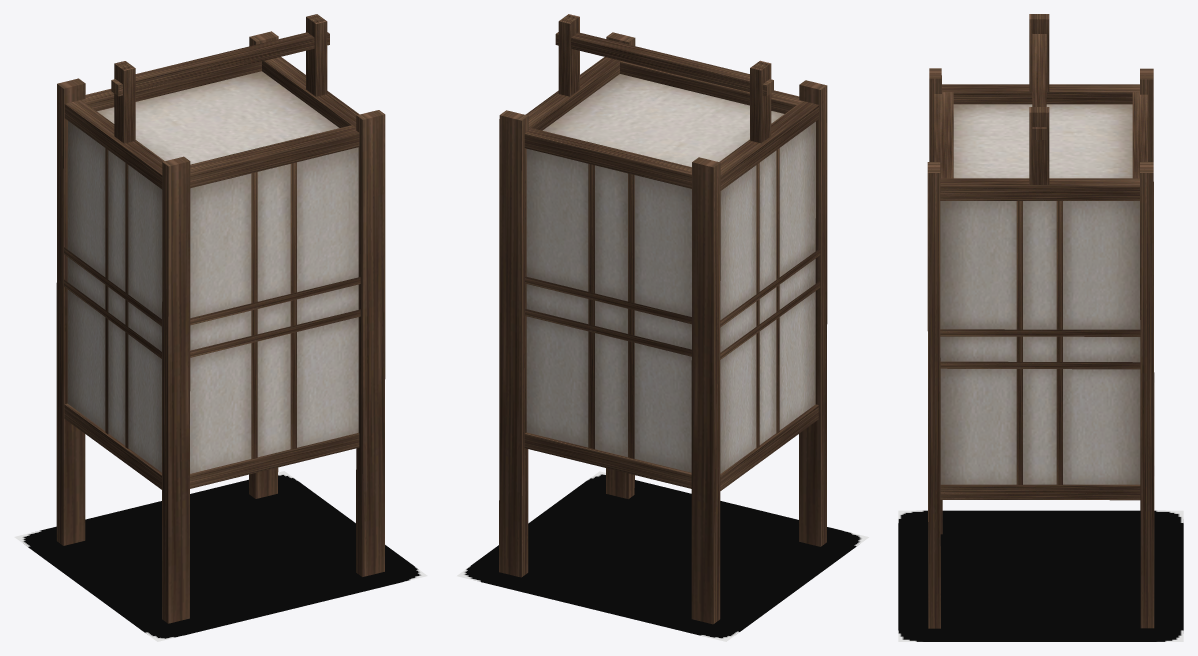
The model's file is jj_rixi_deng01.FBX.
3 renders of one model, left to right at view 1: azimuth 30°, elevation 25°; view 2: azimuth 150°, elevation 25°; view 3: azimuth 270°, elevation 25°, orthographic.
Visible parts, largest first — view 1: jj_rixi_deng01, shadow; view 2: jj_rixi_deng01, shadow; view 3: jj_rixi_deng01, shadow.
Boxes of the visible parts, left/top/right/bottom form: jj_rixi_deng01: left=56, top=14, right=385, bottom=623; shadow: left=14, top=471, right=427, bottom=641; jj_rixi_deng01: left=499, top=14, right=827, bottom=624; shadow: left=457, top=471, right=868, bottom=641; jj_rixi_deng01: left=927, top=14, right=1154, bottom=628; shadow: left=898, top=510, right=1183, bottom=641.
Size of the model in its own units: 25.67 by 47.29 by 23.59.
